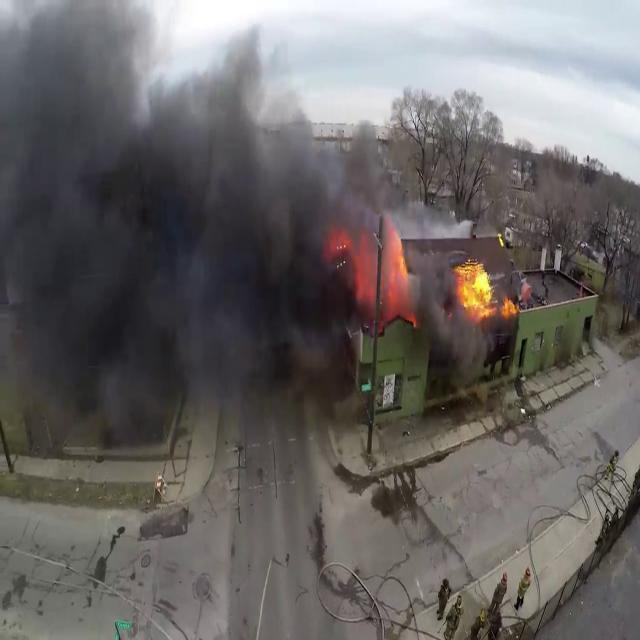Fire: (451, 250, 516, 322)
Smoke: (0, 2, 378, 456)
